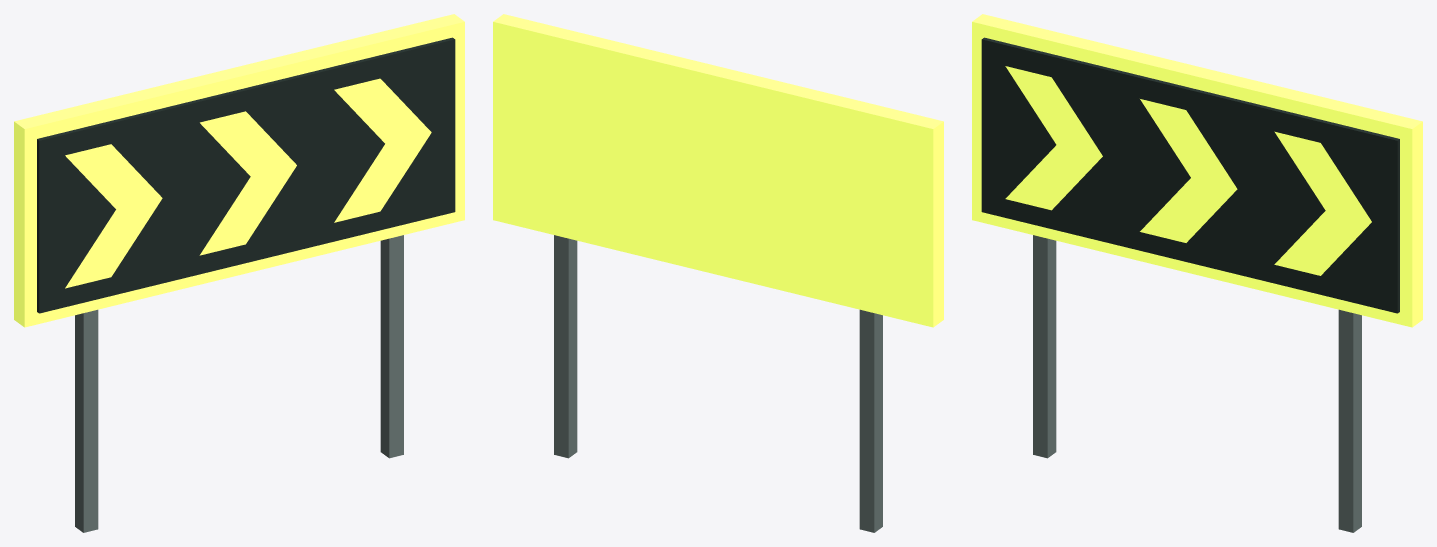
Rendered from turn-chevron.glb.
3 views of the same model, side by side, from view 1: azimuth 30°, elevation 25°; view 2: azimuth 150°, elevation 25°; view 3: azimuth 330°, elevation 25° (orthographic).
Parts seen in each view (by area): view 1: Chevron face, Chevron backing, Chevron right arrow, Chevron right arrow.001, Chevron right arrow.002, Chevron support post, Chevron support post.001; view 2: Chevron backing, Chevron support post, Chevron support post.001; view 3: Chevron face, Chevron backing, Chevron right arrow, Chevron right arrow.001, Chevron right arrow.002, Chevron support post.001, Chevron support post.
Part boxes in pixels (x1=…): Chevron face: x1=37, y1=37, x2=455, y2=313; Chevron backing: x1=14, y1=14, x2=464, y2=327; Chevron right arrow: x1=65, y1=144, x2=162, y2=288; Chevron right arrow.001: x1=199, y1=111, x2=296, y2=255; Chevron right arrow.002: x1=334, y1=78, x2=431, y2=222; Chevron support post: x1=75, y1=309, x2=98, y2=532; Chevron support post.001: x1=380, y1=235, x2=403, y2=458; Chevron backing: x1=493, y1=14, x2=943, y2=327; Chevron support post: x1=859, y1=309, x2=882, y2=532; Chevron support post.001: x1=554, y1=235, x2=577, y2=458; Chevron face: x1=981, y1=37, x2=1399, y2=313; Chevron backing: x1=972, y1=14, x2=1422, y2=327; Chevron right arrow: x1=1005, y1=66, x2=1102, y2=210; Chevron right arrow.001: x1=1140, y1=99, x2=1237, y2=242; Chevron right arrow.002: x1=1274, y1=131, x2=1371, y2=275; Chevron support post.001: x1=1338, y1=309, x2=1361, y2=532; Chevron support post: x1=1033, y1=235, x2=1056, y2=458.
Size of the model in its own units: 3.6 by 3.27 by 0.2.
